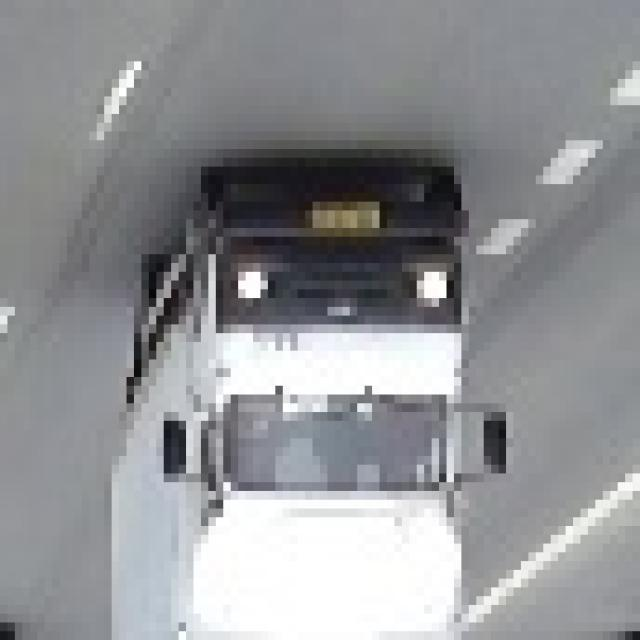truck: (96, 167, 498, 640)
